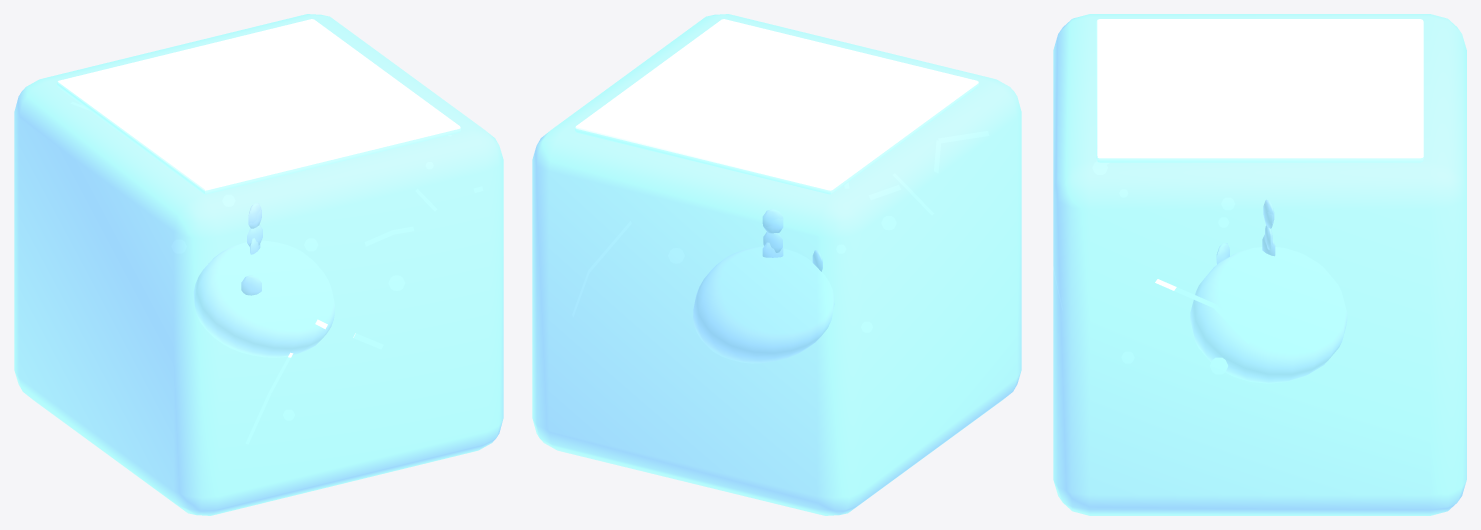
The model's file is ice_block_egg.glb.
3 renders of one model, left to right at view 1: azimuth 30°, elevation 25°; view 2: azimuth 150°, elevation 25°; view 3: azimuth 270°, elevation 25°, orthographic. The views are drawn at different scales.
Parts seen in each view (by area): view 1: ice_block_egg; view 2: ice_block_egg; view 3: ice_block_egg.
Part boxes in pixels (<box>): ice_block_egg: <box>14,14,503,515</box>; ice_block_egg: <box>532,14,1021,515</box>; ice_block_egg: <box>1053,14,1466,515</box>.
Size of the model in its own units: 0.9757 by 0.911 by 0.9676.
